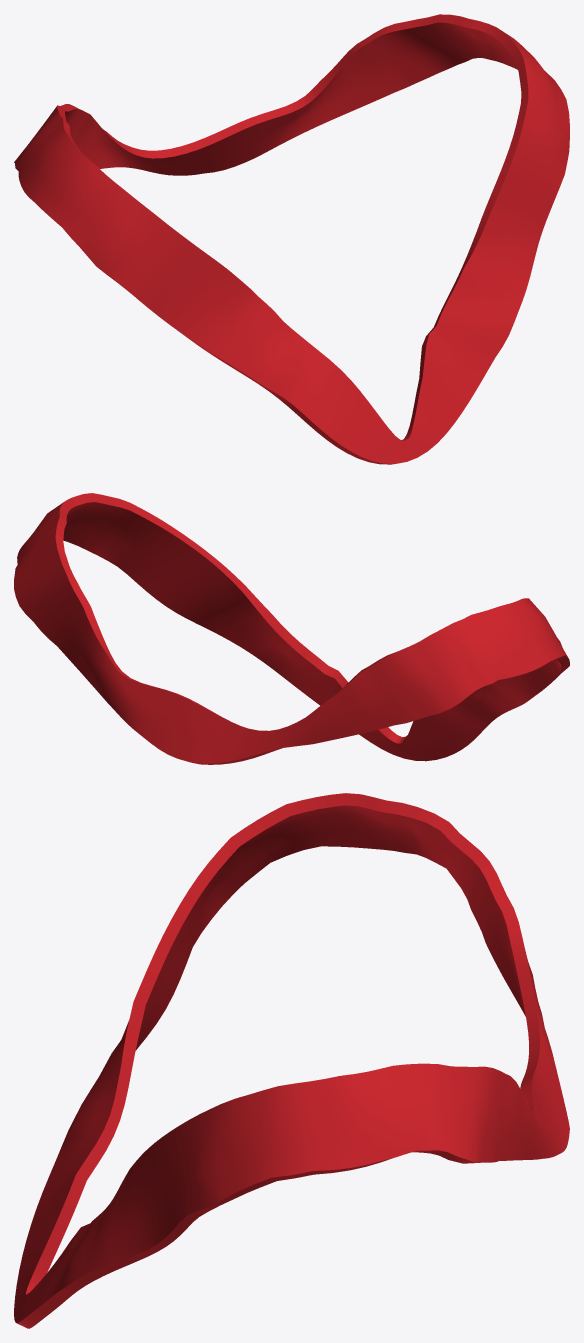
The model's file is WornMedal_Ribbon_Skinny.glb.
3 renders of one model, top to bottom at view 1: azimuth 30°, elevation 25°; view 2: azimuth 150°, elevation 25°; view 3: azimuth 270°, elevation 25°, orthographic. The views are drawn at different scales.
Visible parts, largest first — view 1: WornMedal_Ribbon_Skinny; view 2: WornMedal_Ribbon_Skinny; view 3: WornMedal_Ribbon_Skinny.
Part boxes in pixels (<box>): WornMedal_Ribbon_Skinny: <box>14,14,569,464</box>; WornMedal_Ribbon_Skinny: <box>14,493,569,764</box>; WornMedal_Ribbon_Skinny: <box>14,793,569,1328</box>.
Size of the model in its own units: 1.54 by 0.8342 by 1.08.
